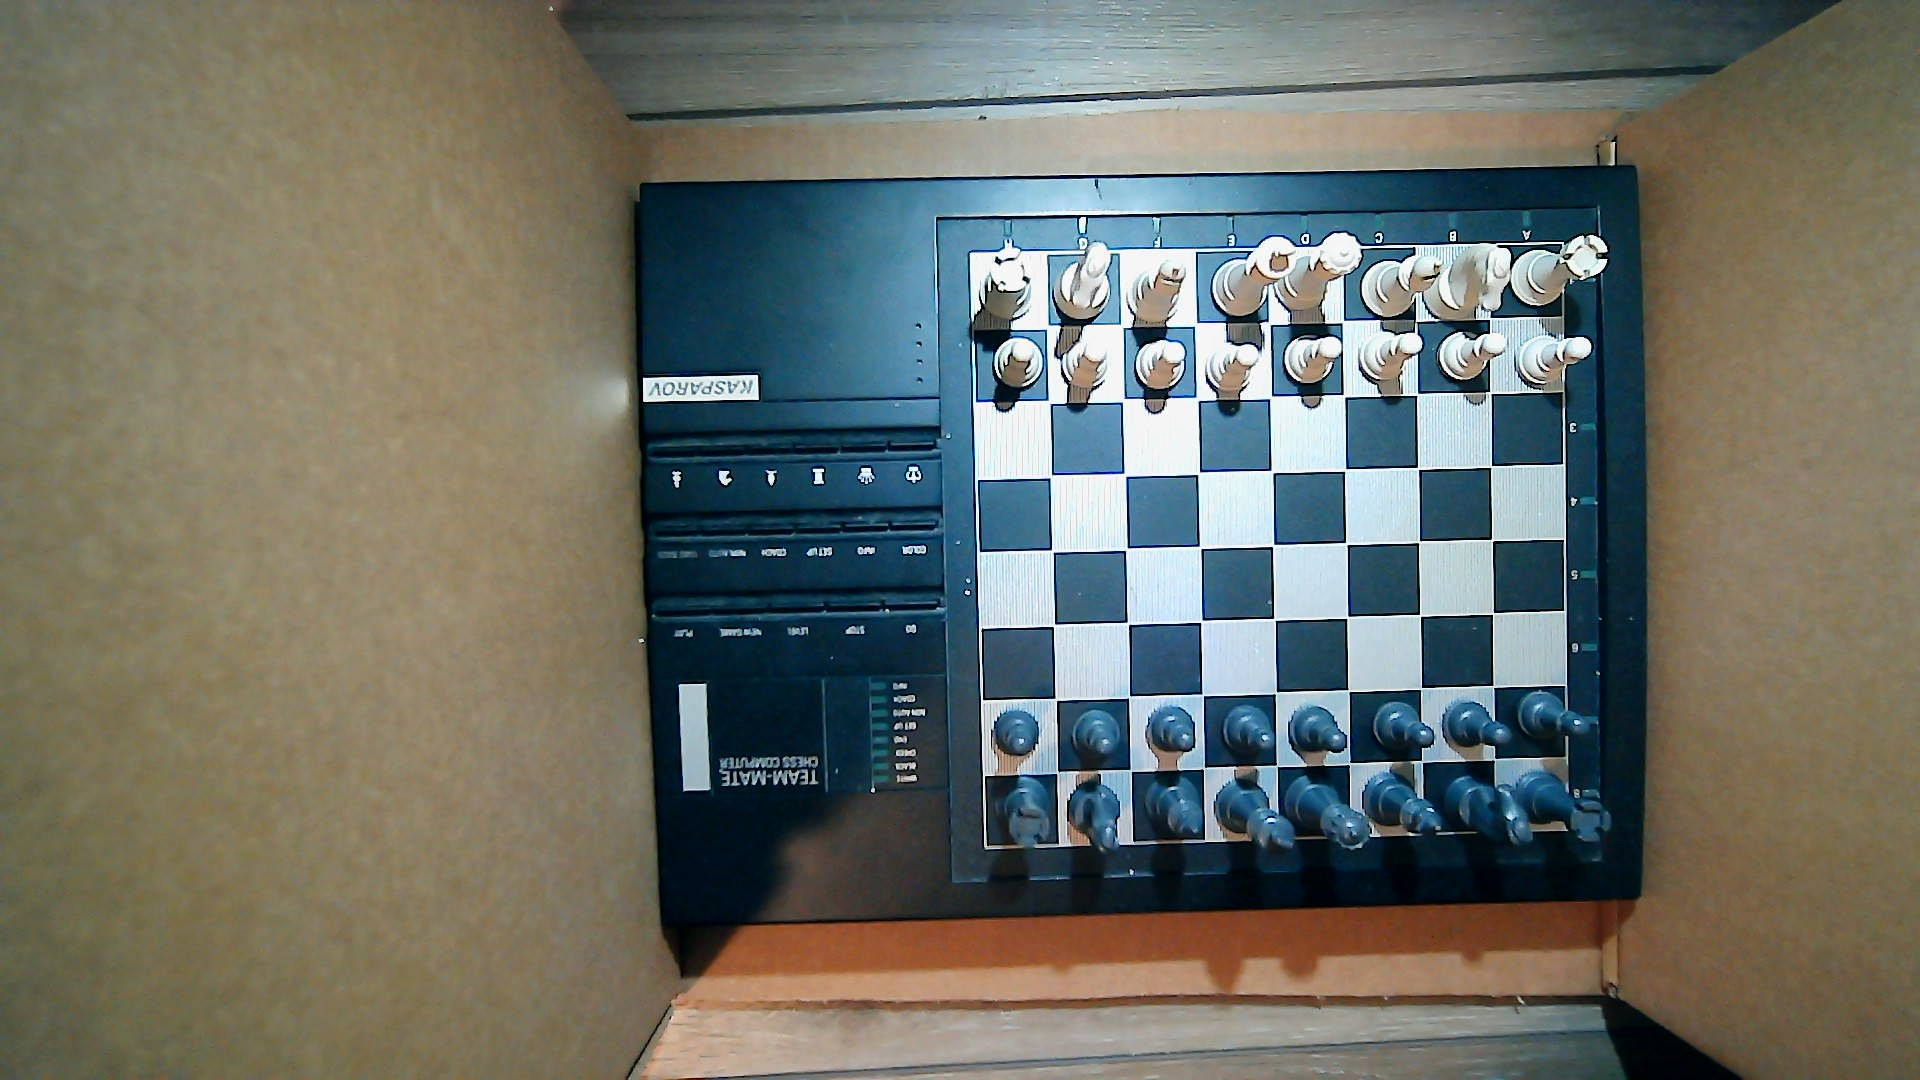bbishop: (1362, 771, 1443, 837), (1143, 775, 1204, 837)
bking: (1213, 777, 1296, 858)
bknight: (1443, 774, 1534, 851), (1067, 783, 1122, 853)
bpawn: (1518, 690, 1592, 744), (1443, 702, 1513, 750), (1371, 702, 1436, 753), (1221, 704, 1276, 760), (1288, 705, 1349, 756), (1071, 709, 1122, 760), (1149, 704, 1197, 753), (992, 711, 1040, 758)
bqueen: (1284, 773, 1371, 851)
brook: (1522, 769, 1613, 843), (993, 777, 1051, 851)
wbishop: (1360, 255, 1443, 318), (1125, 258, 1192, 323)
wking: (1212, 236, 1296, 316)
wknight: (1443, 241, 1513, 323), (1054, 241, 1113, 320)
wpawn: (1514, 334, 1593, 388), (1436, 330, 1509, 381), (1280, 334, 1342, 385), (990, 338, 1047, 390), (1205, 343, 1261, 393), (1060, 339, 1112, 389)
wqueen: (1288, 231, 1364, 310)
wrook: (1514, 233, 1610, 307), (978, 247, 1036, 319)
